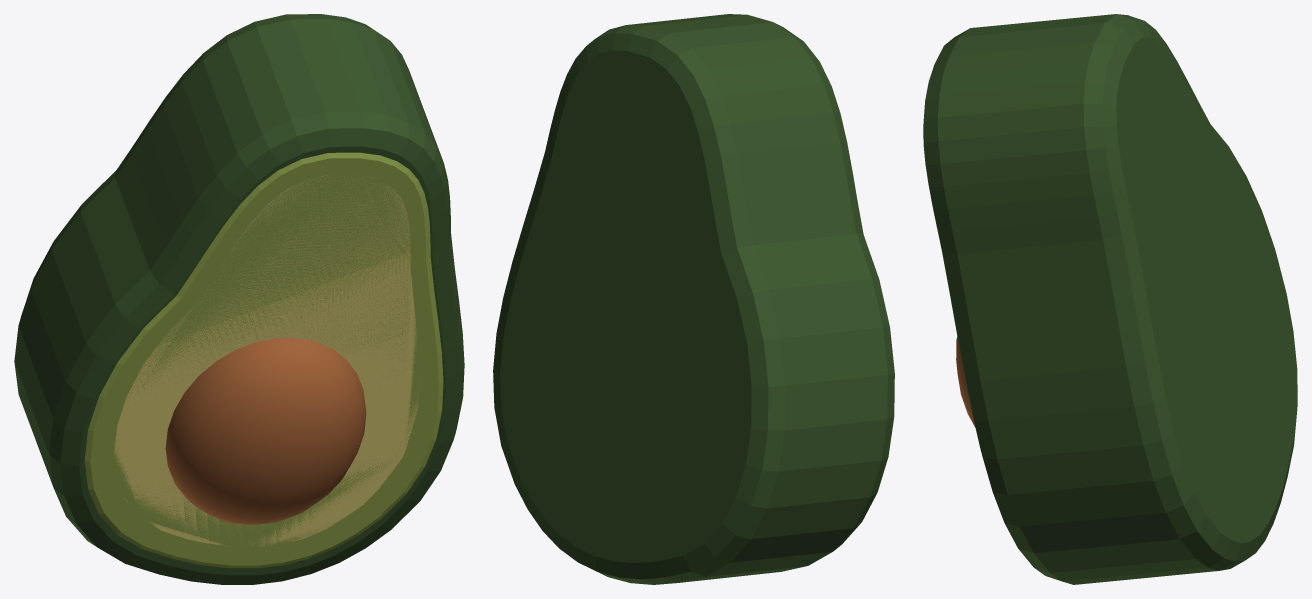
File: avocado.glb
3 renders of one model, left to right at view 1: azimuth 30°, elevation 25°; view 2: azimuth 150°, elevation 25°; view 3: azimuth 270°, elevation 25°, orthographic. The views are drawn at different scales.
Visible parts, largest first — view 1: avocado; view 2: avocado; view 3: avocado.
Part boxes in pixels (x1=…): avocado: x1=14, y1=14, x2=464, y2=584; avocado: x1=493, y1=14, x2=894, y2=584; avocado: x1=923, y1=14, x2=1297, y2=584.
Bounding box in the file's own units: 0.7786 × 1.05 × 0.6354.
